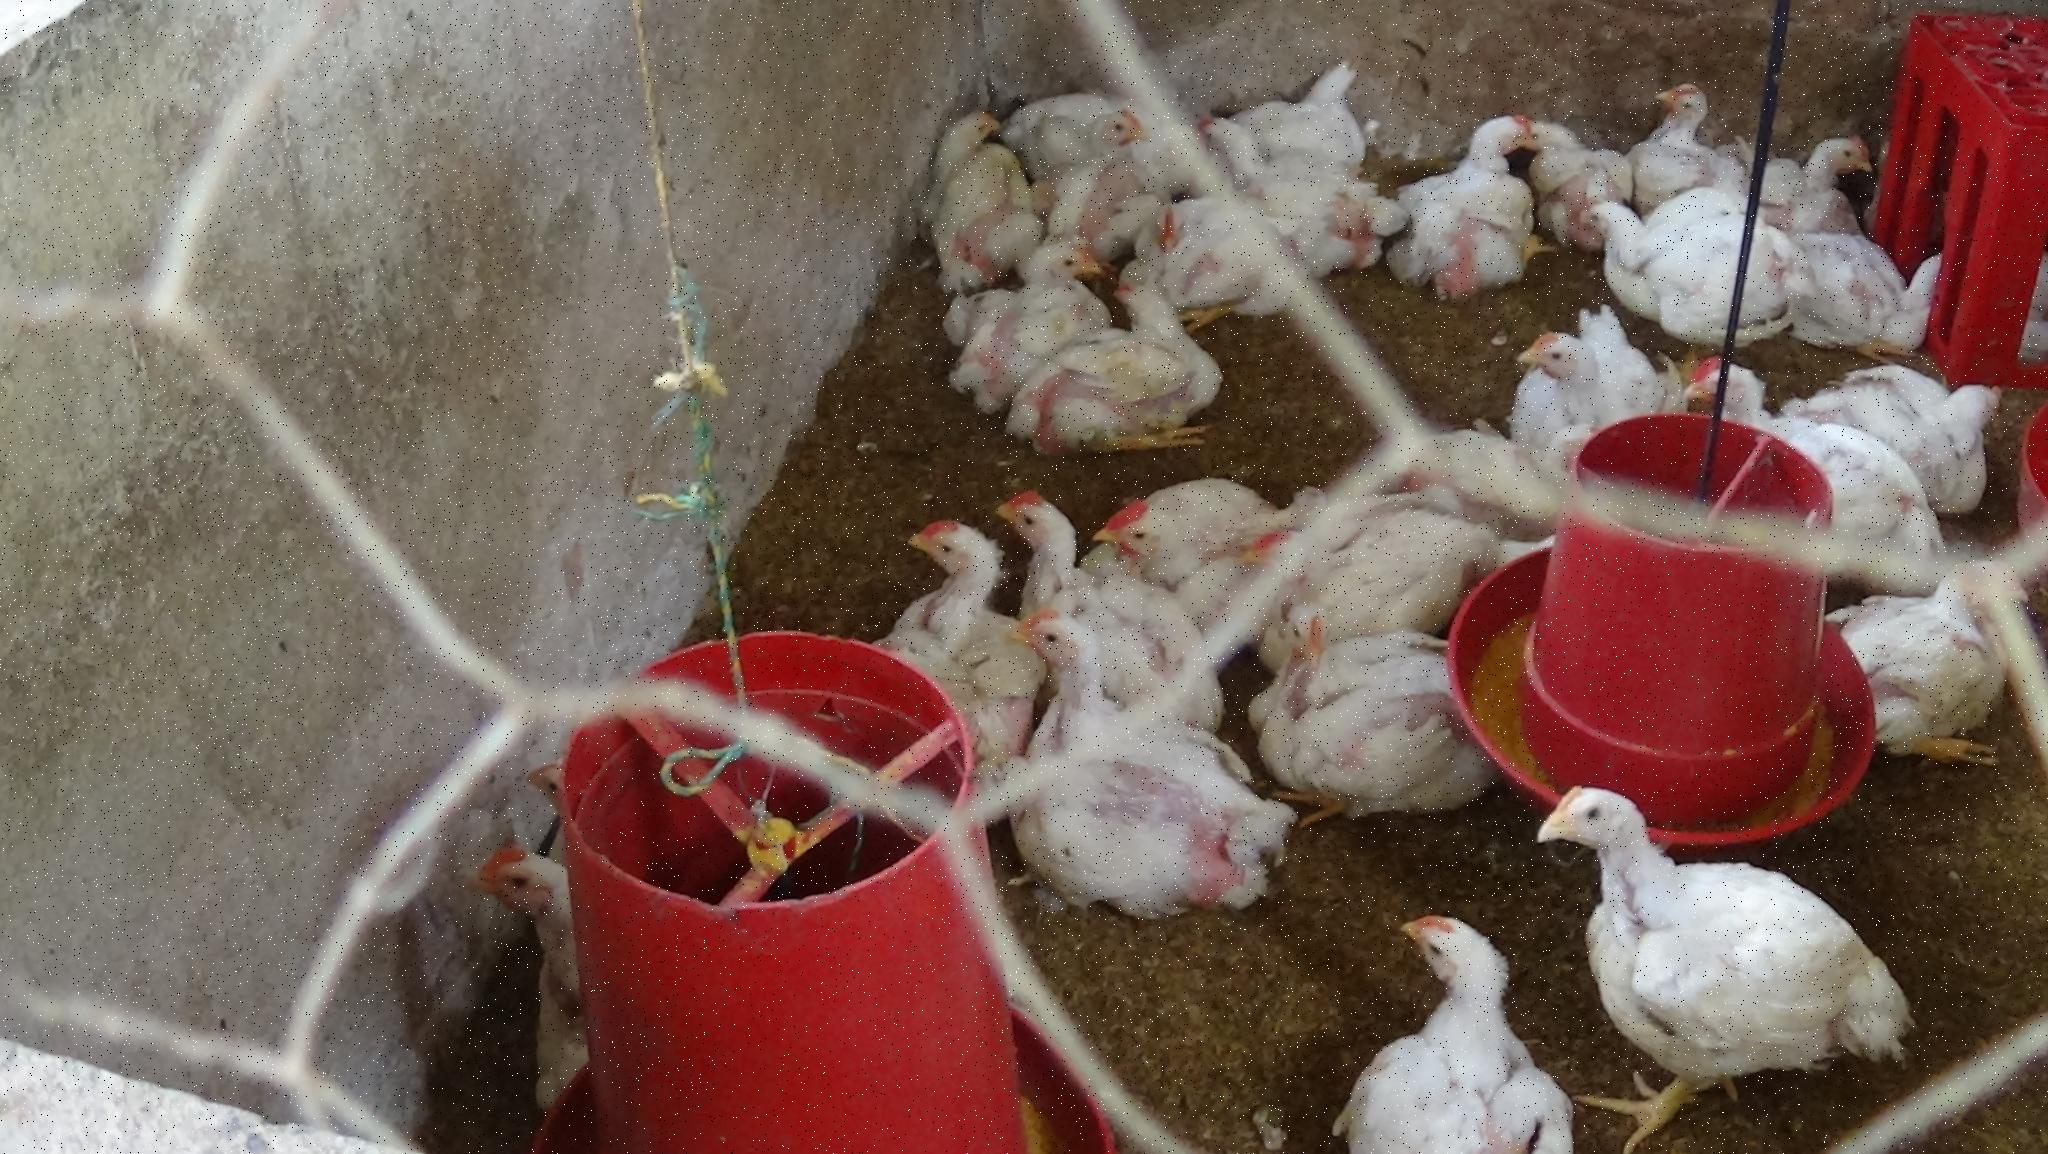Pollos: (1533, 775, 1928, 1103), (992, 602, 1245, 934), (1310, 913, 1561, 1154), (1688, 350, 1941, 583), (1250, 605, 1459, 828), (1837, 553, 2040, 773), (467, 806, 612, 1109), (1267, 443, 1471, 621), (1578, 175, 1781, 335), (1094, 442, 1284, 611), (1031, 281, 1212, 445), (1854, 363, 2011, 516), (876, 500, 1011, 663), (1402, 108, 1521, 288), (1779, 239, 1971, 349), (1513, 334, 1671, 453), (1000, 436, 1100, 611), (1141, 204, 1295, 315), (973, 231, 1115, 348), (1629, 39, 1719, 191), (1786, 110, 1897, 227), (886, 104, 1025, 194), (1047, 70, 1155, 186), (1280, 46, 1370, 170), (1511, 101, 1604, 191), (1191, 107, 1279, 191)
